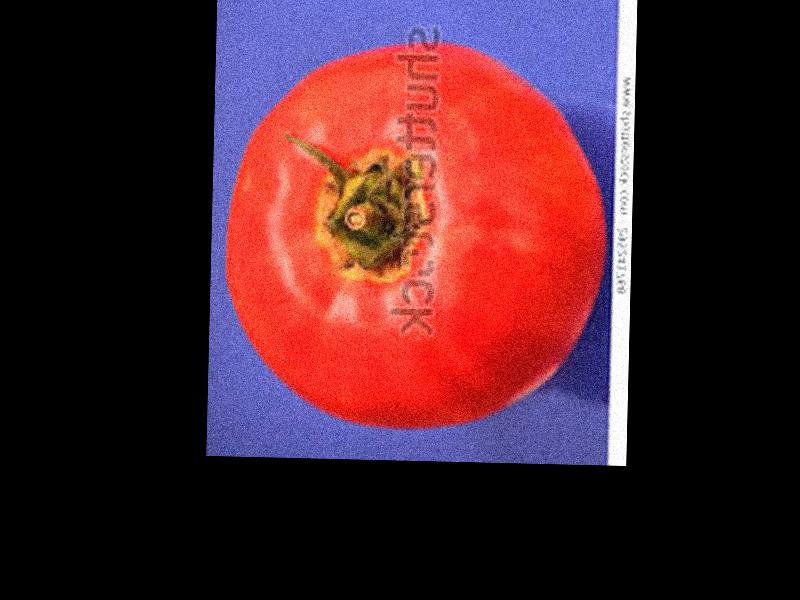Tomato: (222, 37, 602, 434)
